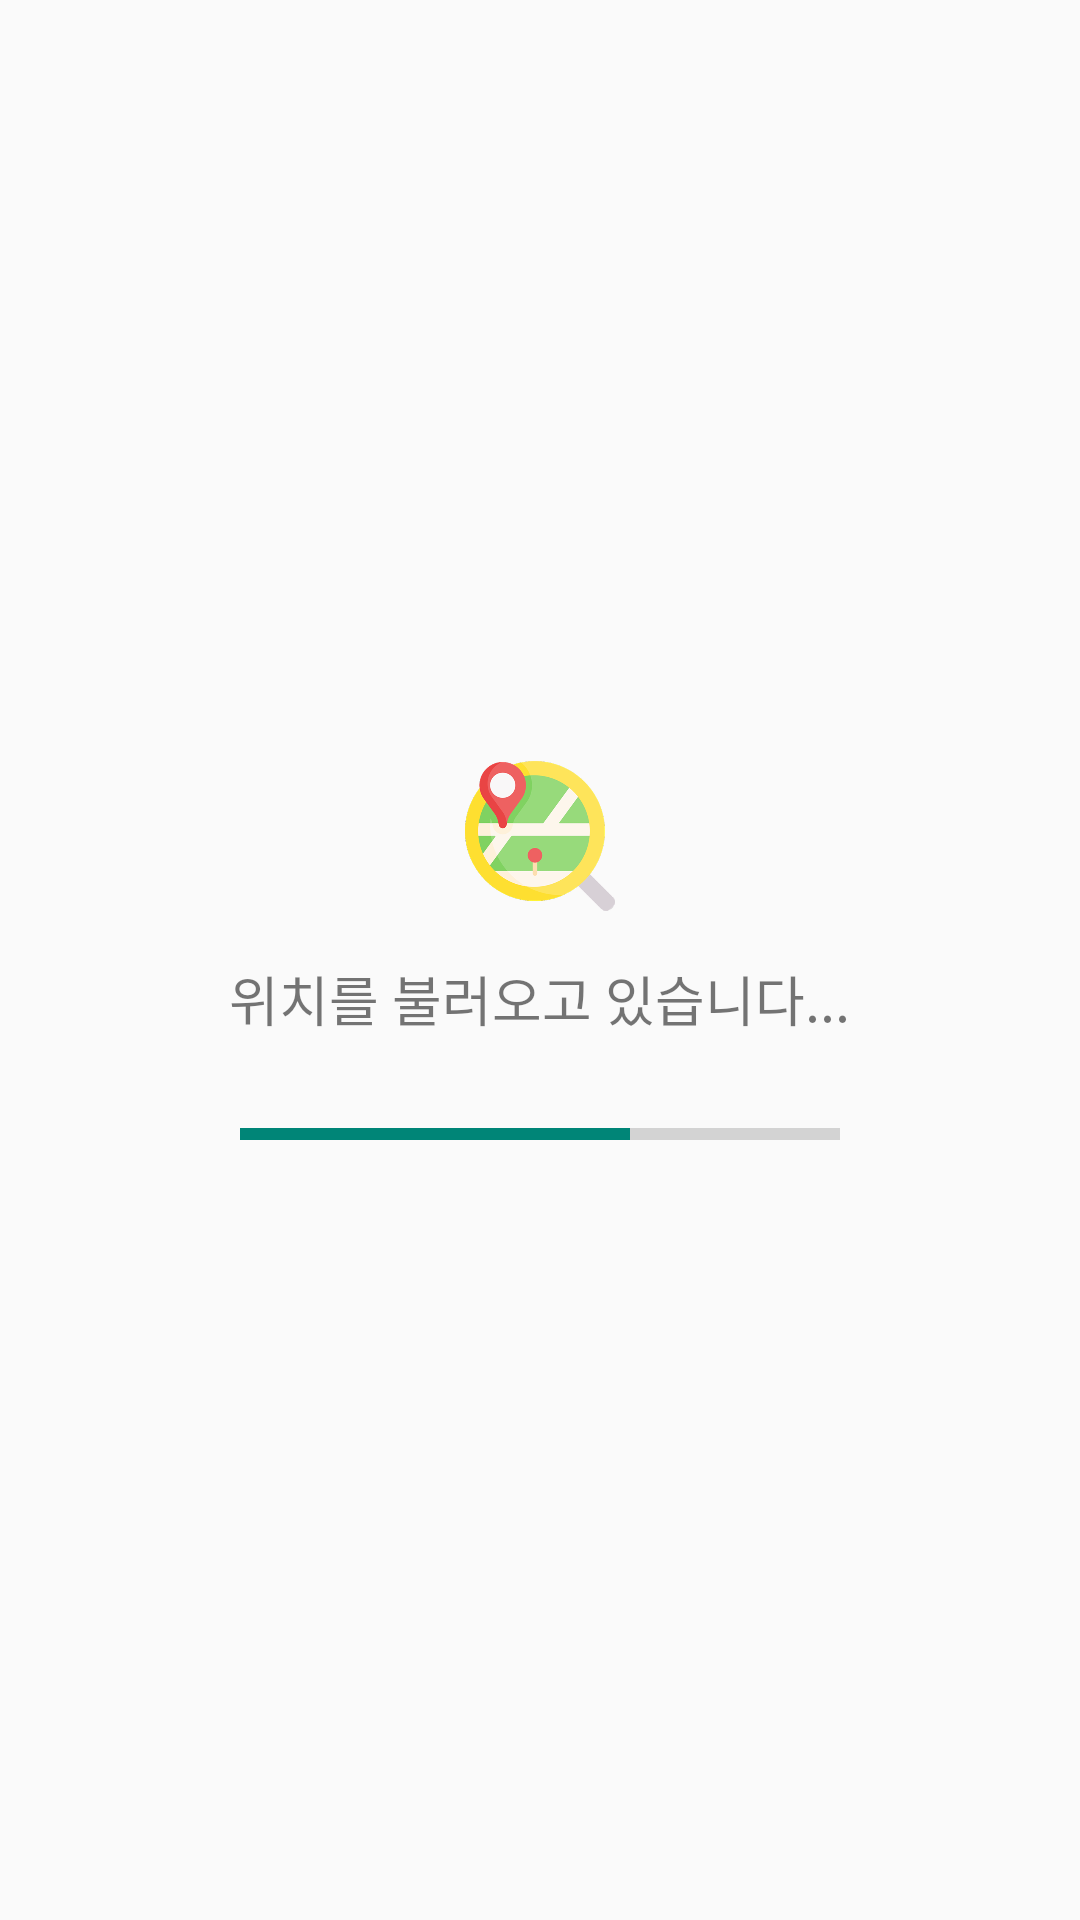

Named icons in this screenshot (1080×1920) and their centers, (x,y):
location loading: (540,836)
